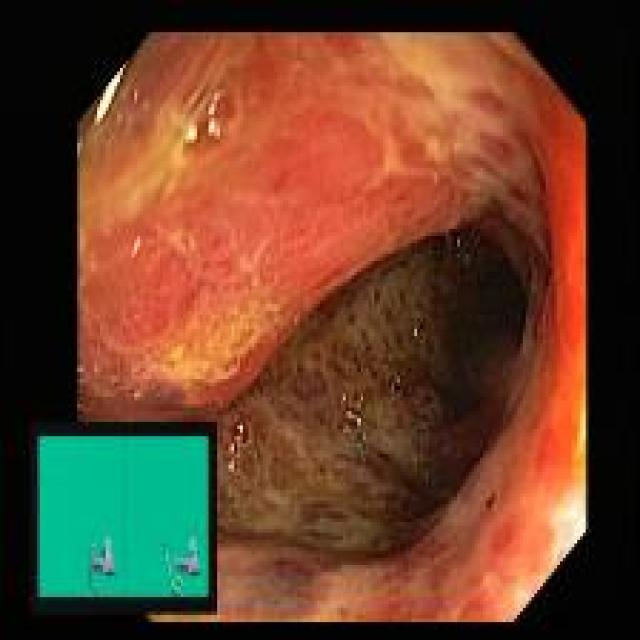ulcerative-colitis: (80, 33, 586, 620)
